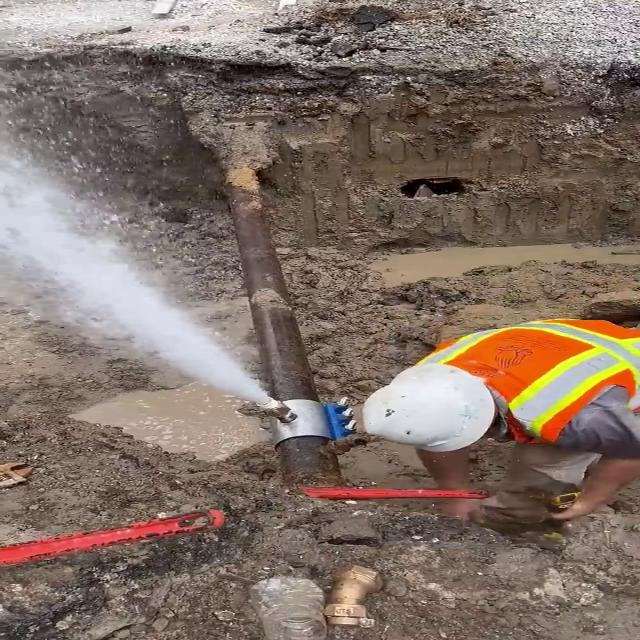leak: (0, 134, 270, 404)
